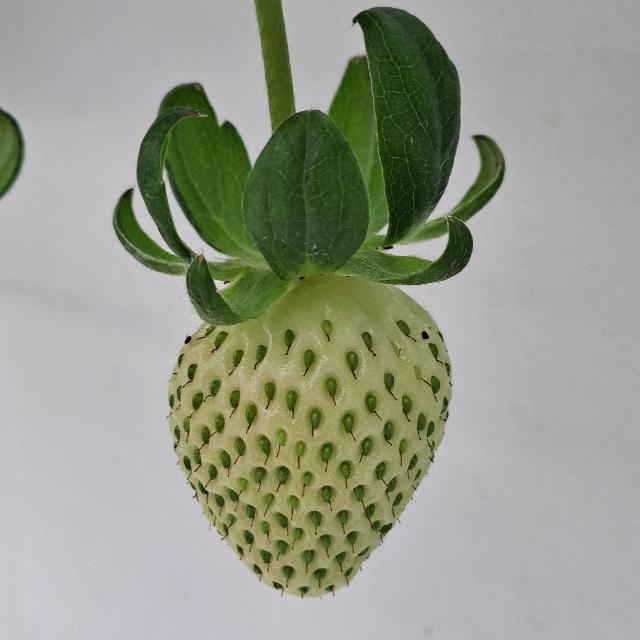Health_25: (168, 276, 452, 596)
